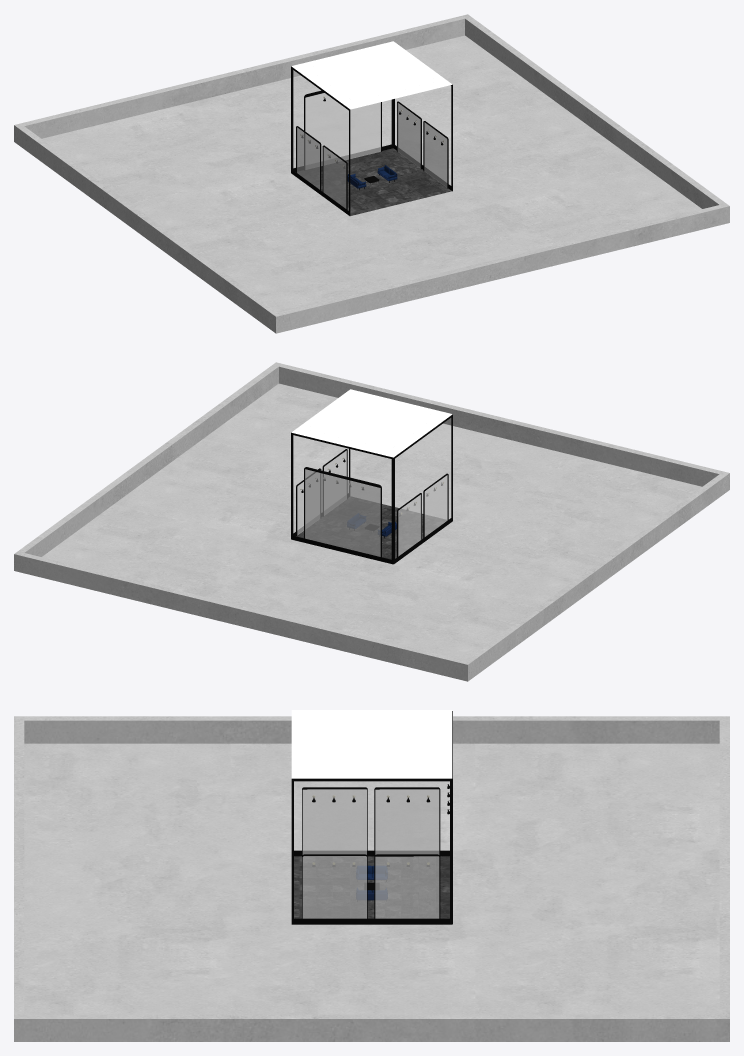
The model's file is modern_preview_for_unity.glb.
3 renders of one model, top to bottom at view 1: azimuth 30°, elevation 25°; view 2: azimuth 150°, elevation 25°; view 3: azimuth 270°, elevation 25°, orthographic. The views are drawn at different scales.
Parts seen in each view (by area): view 1: Sandbox, Floor, BigPannel, CeilingTopCover, Ceiling, SmallPannel.BR, SmallPannel.FR, SmallPannel.FL, SmallPannel.BL, wallL, WallF, wallR; view 2: Sandbox, BigPannel, Floor, CeilingTopCover, Ceiling, WallF, SmallPannel.BL, SmallPannel.FL, SmallPannel.BR, SmallPannel.FR, wallL; view 3: Sandbox, Floor, CeilingTopCover, SmallPannel.BL, SmallPannel.FL, SmallPannel.FR, SmallPannel.BR, Ceiling, wallR, wallL.
Boxes of the visible parts, box(x1,y1,x2,y2) form: Sandbox: box(14, 14, 729, 333); Floor: box(297, 148, 451, 215); BigPannel: box(304, 90, 381, 170); CeilingTopCover: box(307, 45, 436, 100); Ceiling: box(291, 41, 452, 109); SmallPannel.BR: box(423, 121, 448, 188); SmallPannel.FR: box(397, 101, 421, 169); SmallPannel.FL: box(296, 126, 321, 190); SmallPannel.BL: box(322, 145, 347, 209); wallL: box(291, 66, 350, 215); WallF: box(292, 70, 393, 171); wallR: box(393, 84, 452, 191); Sandbox: box(14, 362, 729, 681); BigPannel: box(304, 467, 381, 557); Floor: box(296, 496, 446, 559); CeilingTopCover: box(307, 393, 436, 448); Ceiling: box(291, 389, 452, 457); WallF: box(291, 433, 393, 564); SmallPannel.BL: box(423, 473, 448, 537); SmallPannel.FL: box(397, 493, 421, 557); SmallPannel.BR: box(322, 449, 347, 516); SmallPannel.FR: box(296, 468, 321, 535); wallL: box(393, 414, 452, 563); Sandbox: box(14, 716, 729, 1041); Floor: box(294, 856, 449, 918); CeilingTopCover: box(303, 712, 440, 769); SmallPannel.BL: box(302, 787, 367, 856); SmallPannel.FL: box(374, 787, 440, 855); SmallPannel.FR: box(374, 854, 440, 918); SmallPannel.BR: box(302, 854, 367, 918); Ceiling: box(291, 710, 452, 778); wallR: box(291, 778, 452, 924); wallL: box(294, 850, 449, 856).
Size of the model in its own units: 44.56 by 10.27 by 44.56.
Materials: 12 (4 with a texture image).
